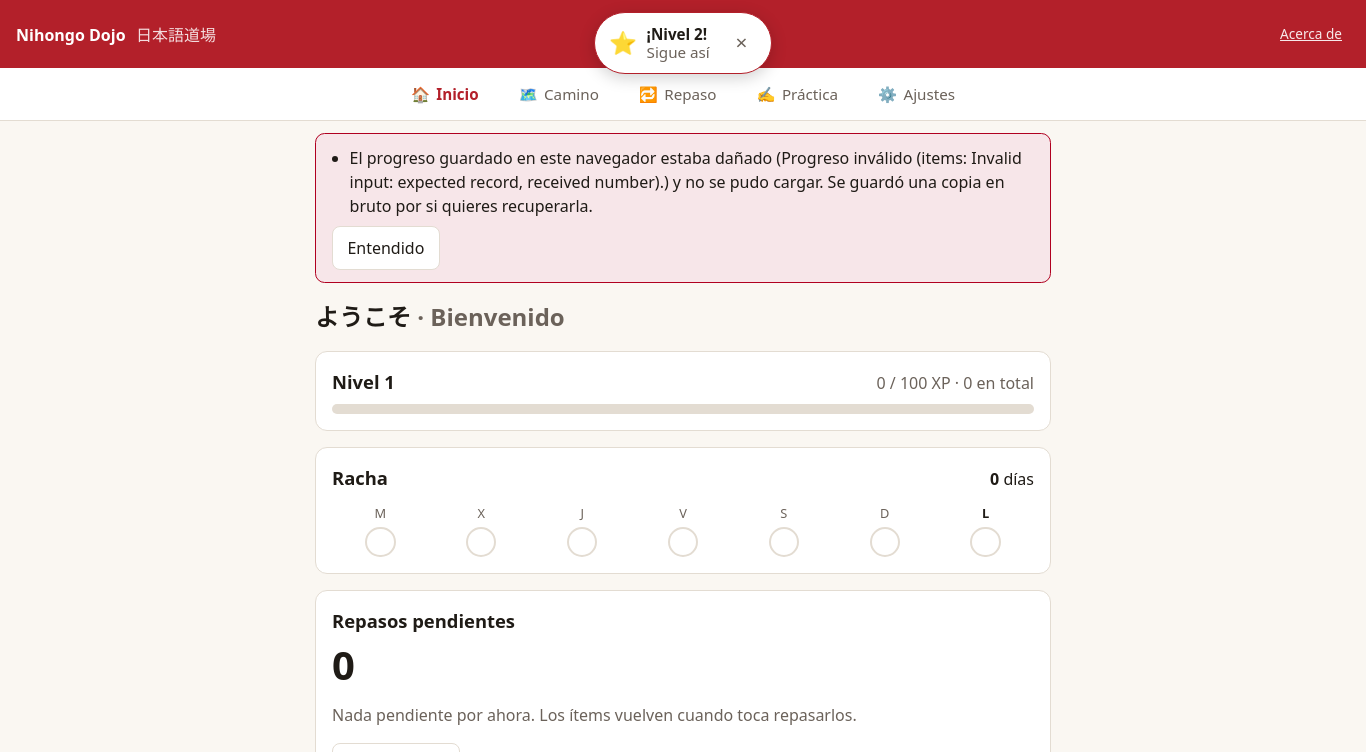
Test: error and empty states › a corrupted saved progress is ignored with a visible notice and a raw backup
Expected: the message with test id "issue-banner" shows "dañado", [350, 147, 1022, 217]
Click the button "Entendido" at [386, 248], box [332, 226, 440, 270]
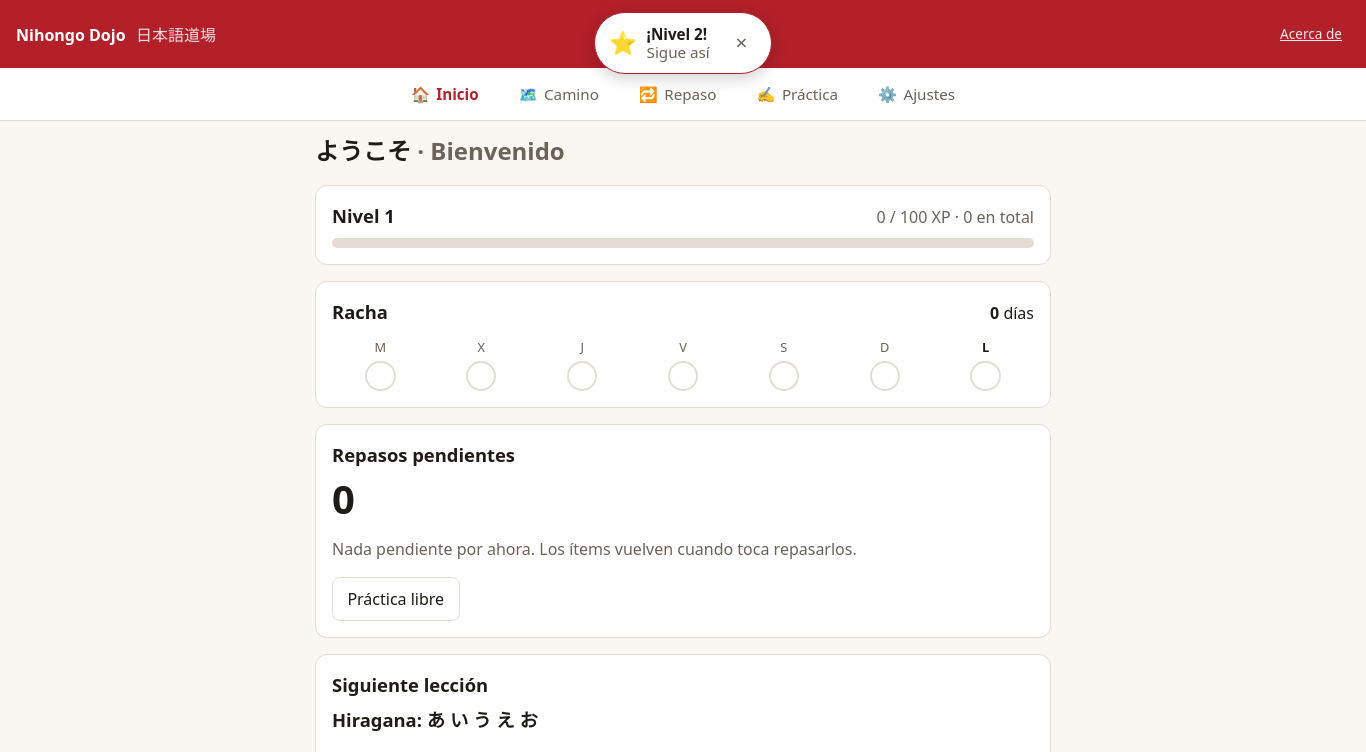
Result: the message with test id "issue-banner" is gone
